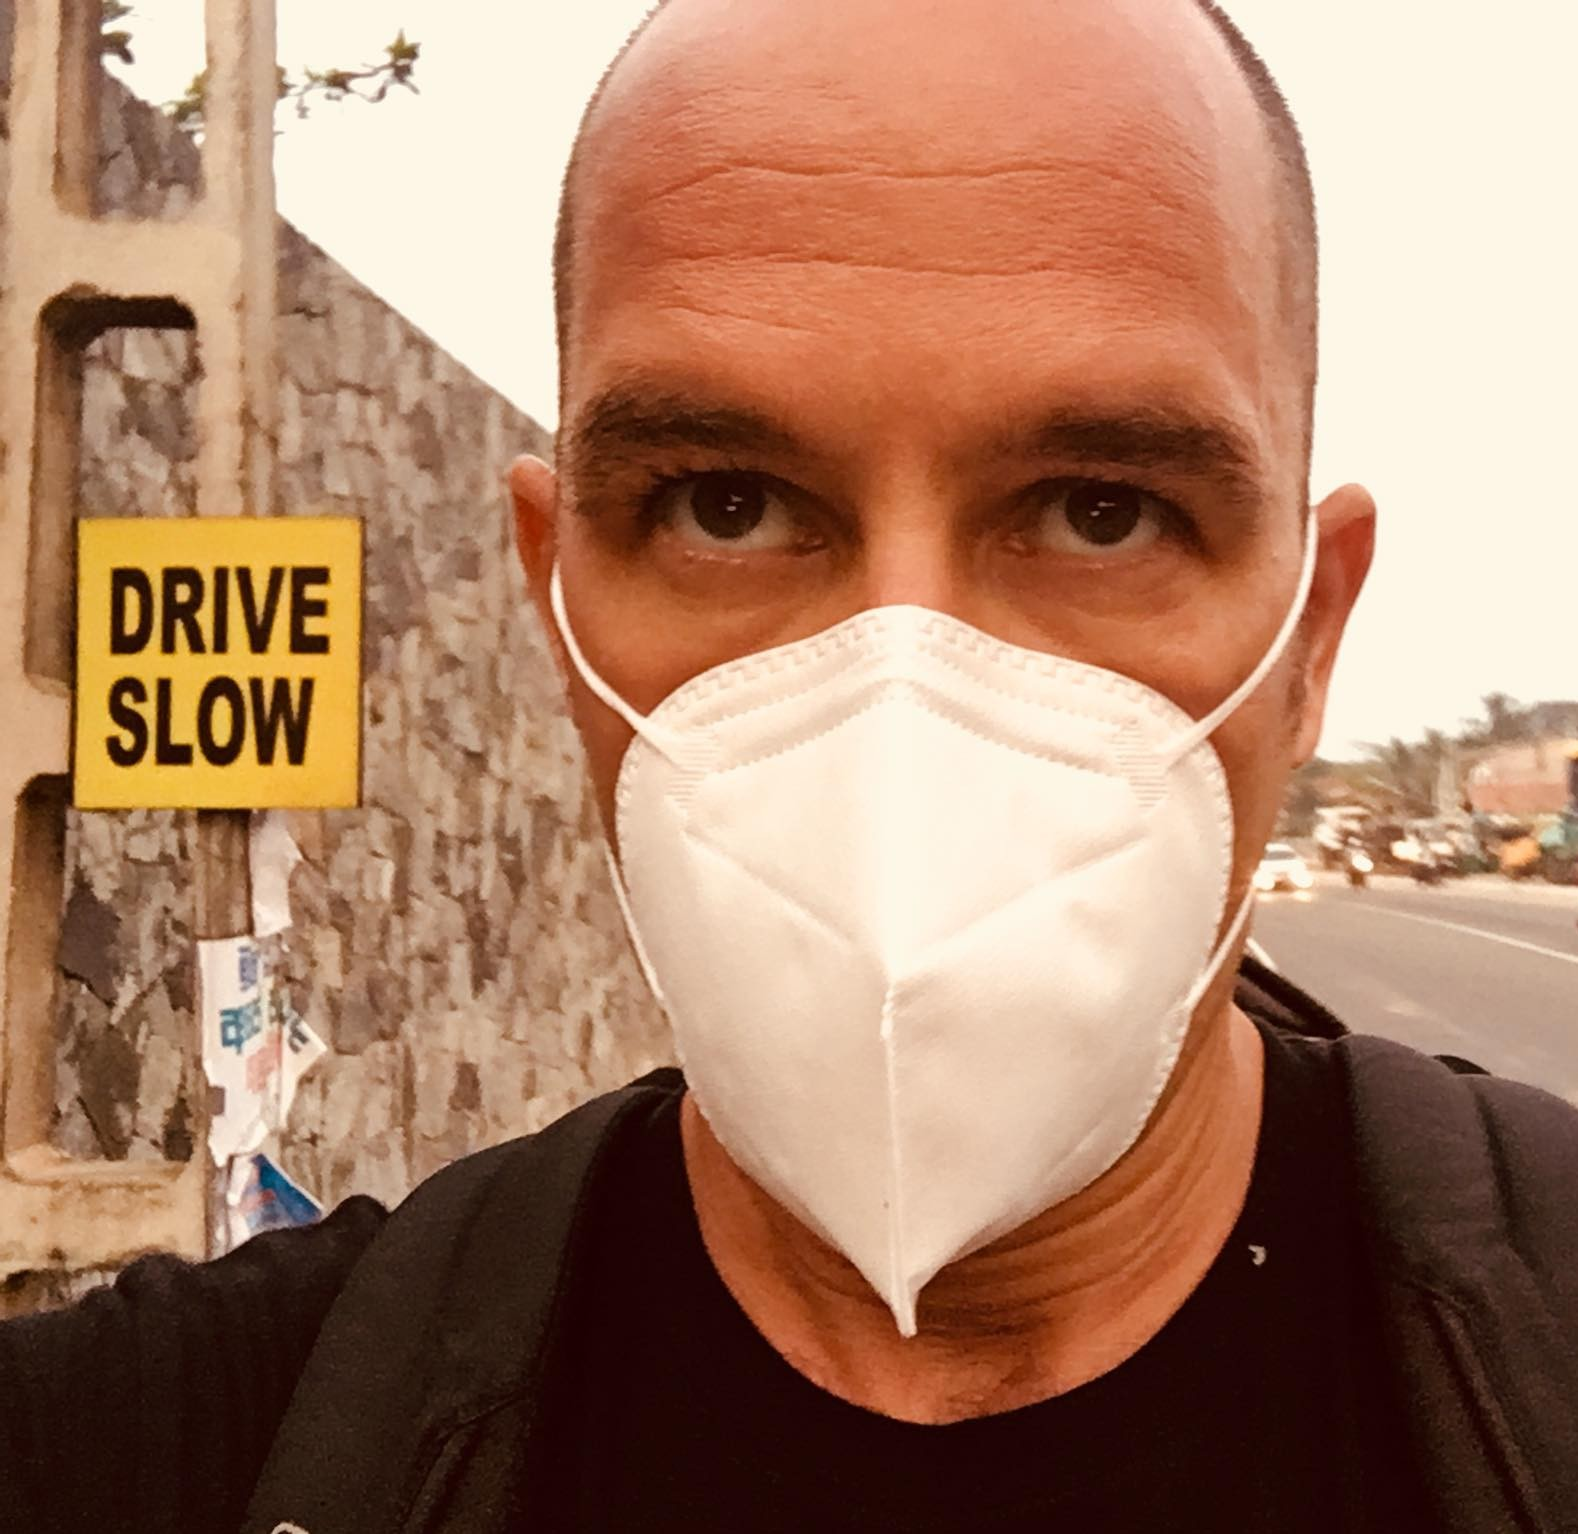with_mask: (529, 84, 1377, 1311)
